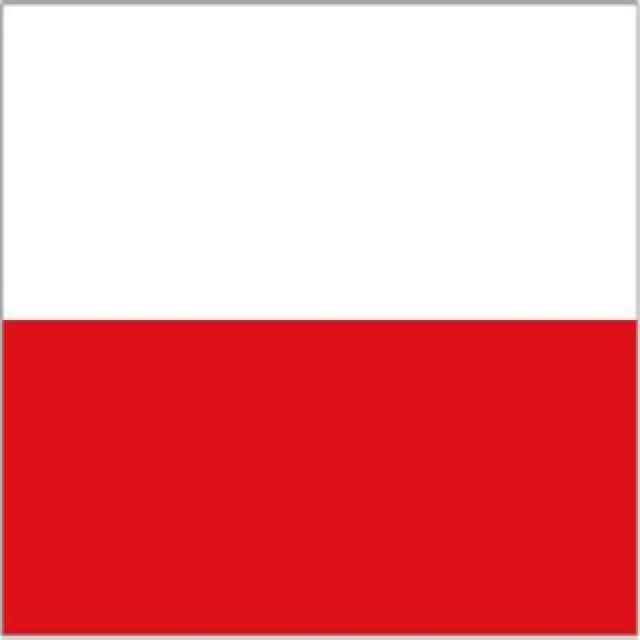poland: (6, 3, 640, 640)
